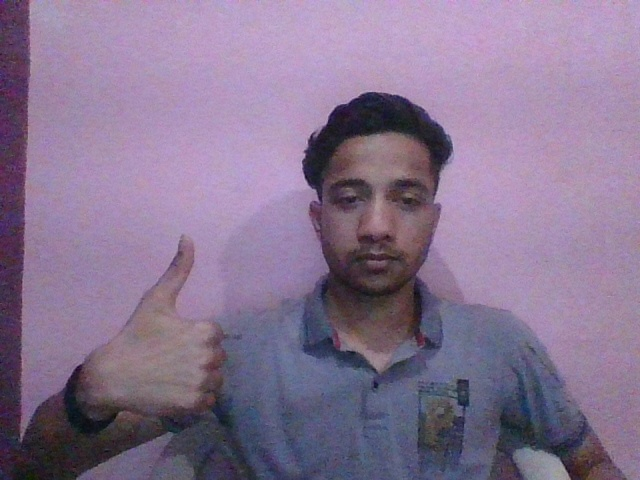thumbsup: (87, 233, 226, 414)
